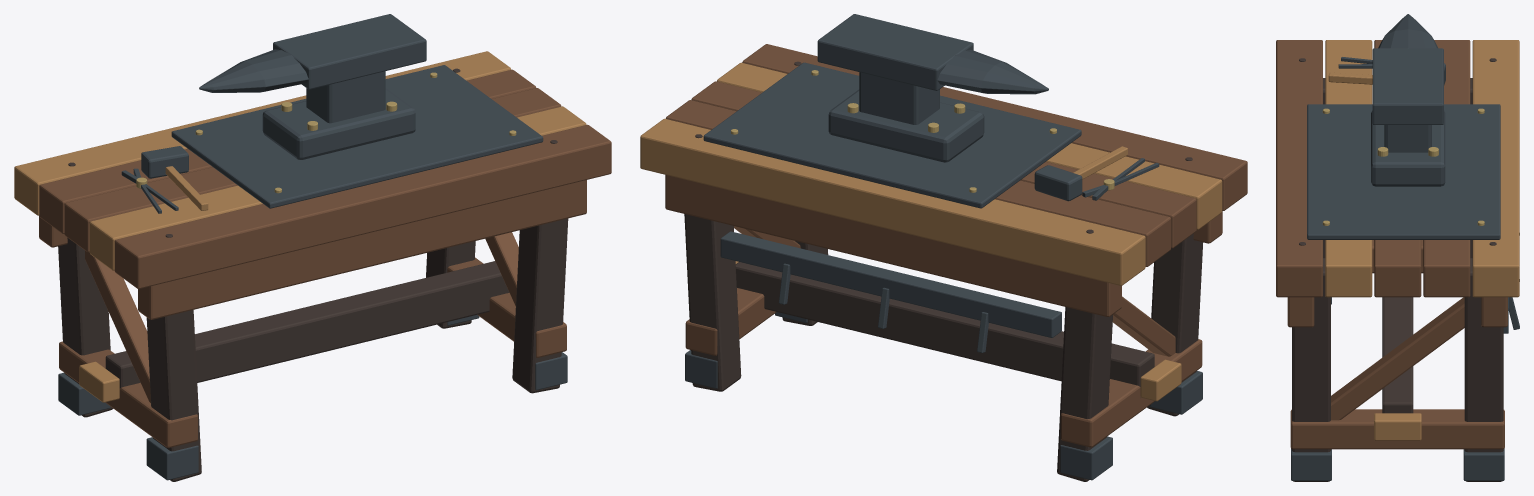
File: smithy_workbench.glb
3 views of the same model, side by side, from view 1: azimuth 30°, elevation 25°; view 2: azimuth 150°, elevation 25°; view 3: azimuth 270°, elevation 25° (orthographic). The views are drawn at different scales.
Visible parts, largest first — view 1: Thick top plank.005, Protective forge plate, Long lower stretcher.001, Deep apron.002, Anvil face.001, Splayed trestle leg.006, Thick top plank.009, Thick top plank.006, Anvil foot.001, Splayed trestle leg.004, Thick top plank.007, Thick top plank.008 (+13 smaller); view 2: Thick top plank.009, Protective forge plate, Deep apron.003, Long lower stretcher.001, Tool rail, Thick top plank.005, Anvil face.001, Splayed trestle leg.007, Anvil foot.001, Thick top plank.008, Splayed trestle leg.005, Thick top plank.006 (+12 smaller); view 3: Protective forge plate, Thick top plank.005, Thick top plank.009, Trestle lower tie.003, Anvil face.001, Thick top plank.006, Splayed trestle leg.007, Thick top plank.008, Splayed trestle leg.006, Diagonal brace.003, Anvil foot.001, Thick top plank.007 (+9 smaller).
Boxes of the visible parts, bbox=[...] form: Thick top plank.005: bbox=[114, 124, 611, 288]; Protective forge plate: bbox=[171, 65, 543, 208]; Long lower stretcher.001: bbox=[105, 261, 509, 388]; Deep apron.002: bbox=[138, 180, 586, 319]; Anvil face.001: bbox=[273, 14, 426, 89]; Splayed trestle leg.006: bbox=[512, 218, 568, 393]; Thick top plank.009: bbox=[14, 51, 511, 215]; Thick top plank.006: bbox=[89, 106, 586, 270]; Anvil foot.001: bbox=[262, 88, 415, 159]; Splayed trestle leg.004: bbox=[146, 310, 201, 481]; Thick top plank.007: bbox=[64, 88, 561, 252]; Thick top plank.008: bbox=[39, 69, 536, 233]; Thick top plank.009: bbox=[640, 118, 1145, 285]; Protective forge plate: bbox=[703, 62, 1081, 208]; Deep apron.003: bbox=[665, 175, 1121, 316]; Long lower stretcher.001: bbox=[735, 262, 1154, 397]; Tool rail: bbox=[720, 231, 1061, 337]; Thick top plank.005: bbox=[742, 44, 1247, 210]; Anvil face.001: bbox=[817, 14, 973, 90]; Splayed trestle leg.007: bbox=[684, 214, 741, 391]; Anvil foot.001: bbox=[828, 89, 984, 162]; Thick top plank.008: bbox=[666, 100, 1170, 266]; Splayed trestle leg.005: bbox=[1057, 307, 1112, 481]; Thick top plank.006: bbox=[717, 62, 1222, 229]; Protective forge plate: bbox=[1307, 104, 1500, 239]; Thick top plank.005: bbox=[1276, 40, 1322, 297]; Thick top plank.009: bbox=[1472, 40, 1519, 297]; Trestle lower tie.003: bbox=[1290, 409, 1504, 449]; Anvil face.001: bbox=[1372, 48, 1443, 124]; Thick top plank.006: bbox=[1325, 40, 1372, 297]; Splayed trestle leg.007: bbox=[1464, 258, 1503, 481]; Thick top plank.008: bbox=[1423, 40, 1470, 297]; Splayed trestle leg.006: bbox=[1292, 258, 1330, 481]; Diagonal brace.003: bbox=[1331, 297, 1464, 420]; Anvil foot.001: bbox=[1371, 110, 1445, 186]; Thick top plank.007: bbox=[1374, 40, 1421, 297].
Bounding box in the file's own units: 1.8 × 1.24 × 0.8191.
